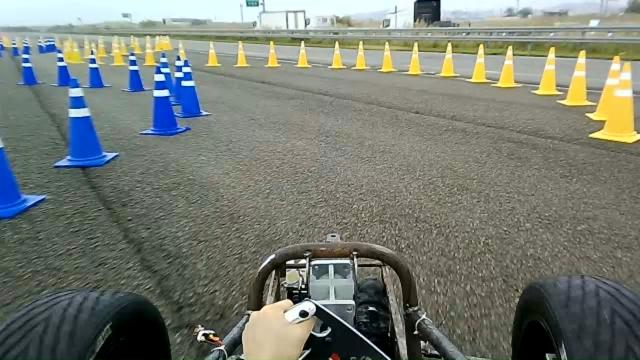blue cone: (52, 77, 119, 168), (138, 64, 191, 136), (176, 60, 211, 116), (154, 49, 178, 101), (167, 52, 190, 106)
yellow cone: (589, 61, 639, 143), (585, 54, 625, 121), (556, 49, 597, 106), (531, 46, 563, 95), (491, 44, 522, 88), (465, 43, 492, 83), (436, 41, 459, 77), (403, 41, 424, 75), (377, 41, 398, 72), (350, 40, 370, 70), (328, 40, 347, 69), (294, 40, 312, 68), (264, 40, 282, 68), (232, 40, 250, 67), (204, 40, 221, 66)
